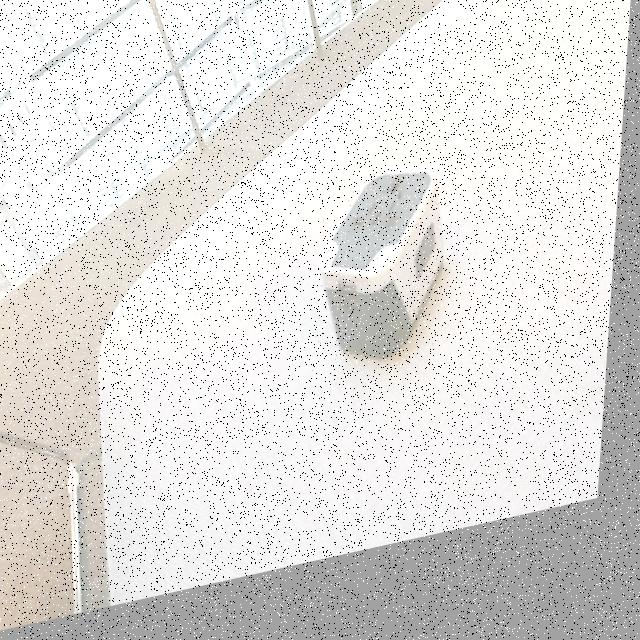adapter: (318, 177, 453, 390)
